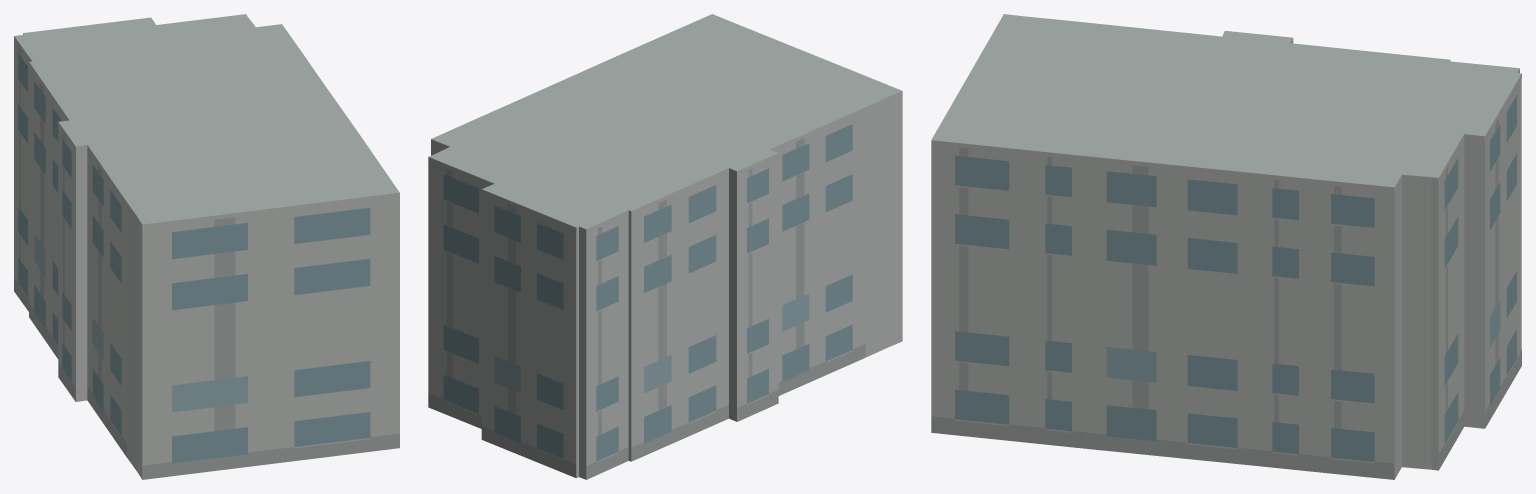
File: survey-upis-32925644.glb
The picture shows the model from 3 angles, left to right: view 1: azimuth 30°, elevation 25°; view 2: azimuth 150°, elevation 25°; view 3: azimuth 270°, elevation 25°; orthographic projection. The views are drawn at different scales.
Visible parts, largest first — view 1: survey-upis-32925644.tmp; view 2: survey-upis-32925644.tmp; view 3: survey-upis-32925644.tmp.
Part boxes in pixels (x1,y1,x2,y2): survey-upis-32925644.tmp: (14,14,399,479); survey-upis-32925644.tmp: (428,14,902,479); survey-upis-32925644.tmp: (931,14,1521,479).
Bounding box in the file's own units: 19.58 × 15.4 × 28.19.
